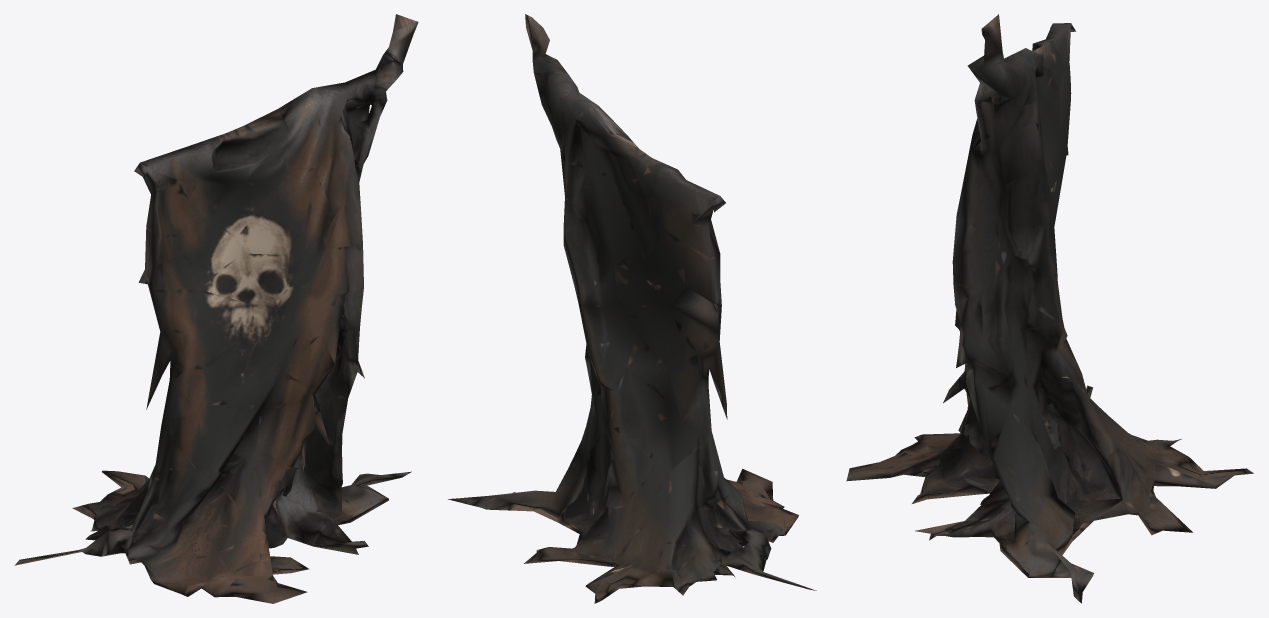
The model's file is fallen_banner.glb.
3 views of the same model, side by side, from view 1: azimuth 30°, elevation 25°; view 2: azimuth 150°, elevation 25°; view 3: azimuth 270°, elevation 25° (orthographic). The views are drawn at different scales.
Size of the model in its own units: 1.66 by 2 by 1.31.
Materials: 1 (1 with a texture image).
